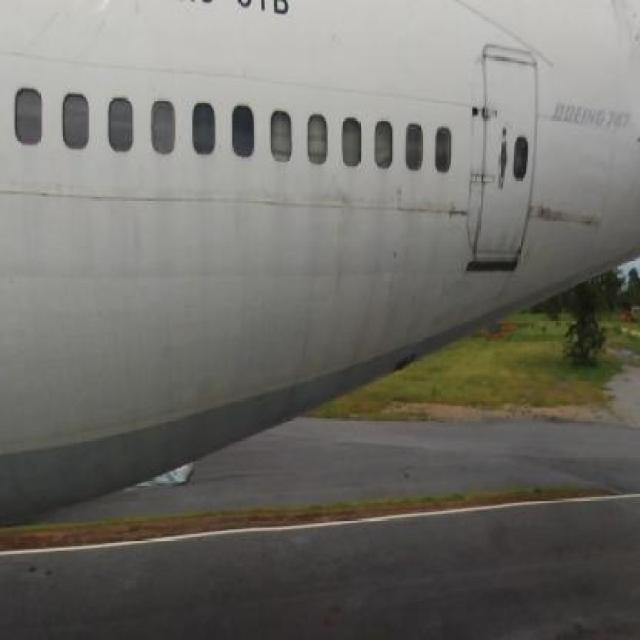Rust: (531, 200, 604, 242), (482, 221, 522, 274), (481, 45, 536, 78)
Scartch: (318, 177, 374, 311), (388, 185, 418, 230), (444, 190, 470, 228)
